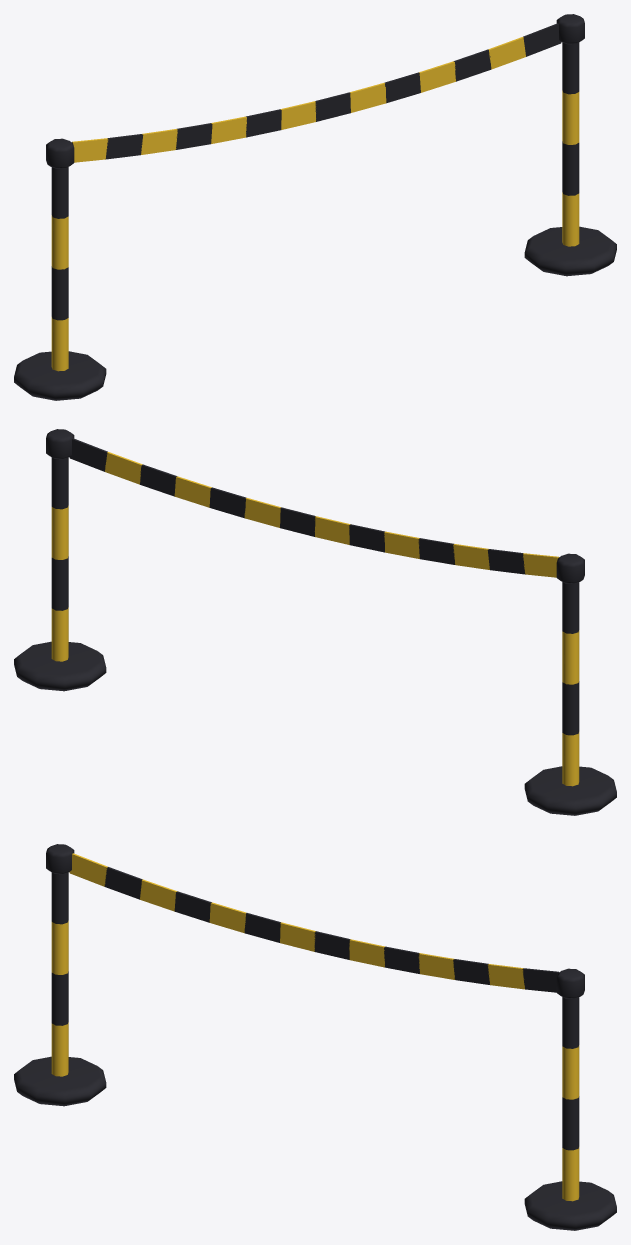
Rendered from sperre_band.glb.
The picture shows the model from 3 angles, top to bottom: view 1: azimuth 30°, elevation 25°; view 2: azimuth 150°, elevation 25°; view 3: azimuth 330°, elevation 25°; orthographic projection.
Visible parts, largest first — view 1: sperre_band; view 2: sperre_band; view 3: sperre_band.
Part boxes in pixels (left/top/right/bottom): sperre_band: left=14, top=14, right=616, bottom=400; sperre_band: left=14, top=429, right=616, bottom=815; sperre_band: left=14, top=844, right=616, bottom=1230.
Size of the model in its own units: 2.3 by 0.9 by 0.32.
